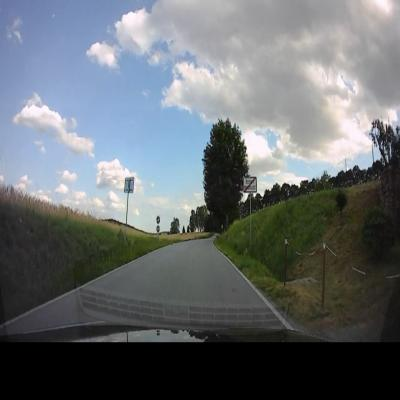clear-road: (94, 238, 265, 307)
